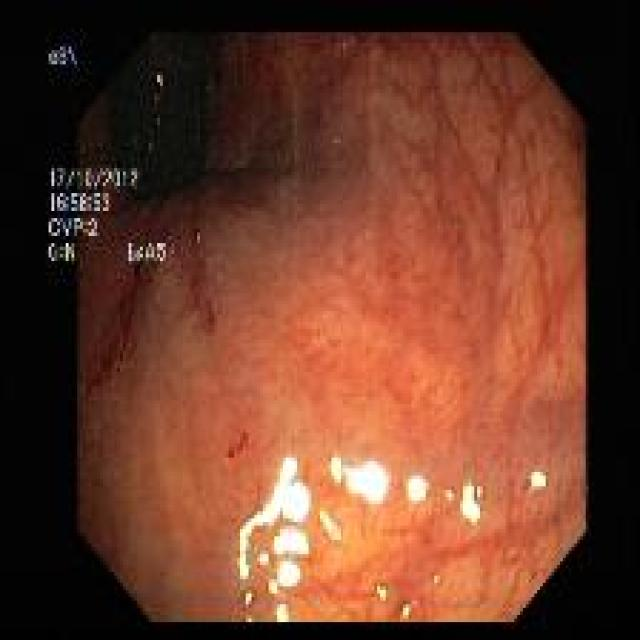ulcerative-colitis: (80, 34, 585, 622)
